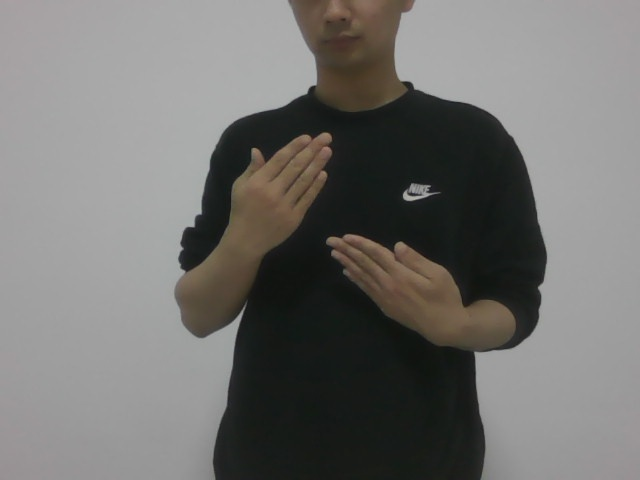tea: (224, 131, 472, 353)
